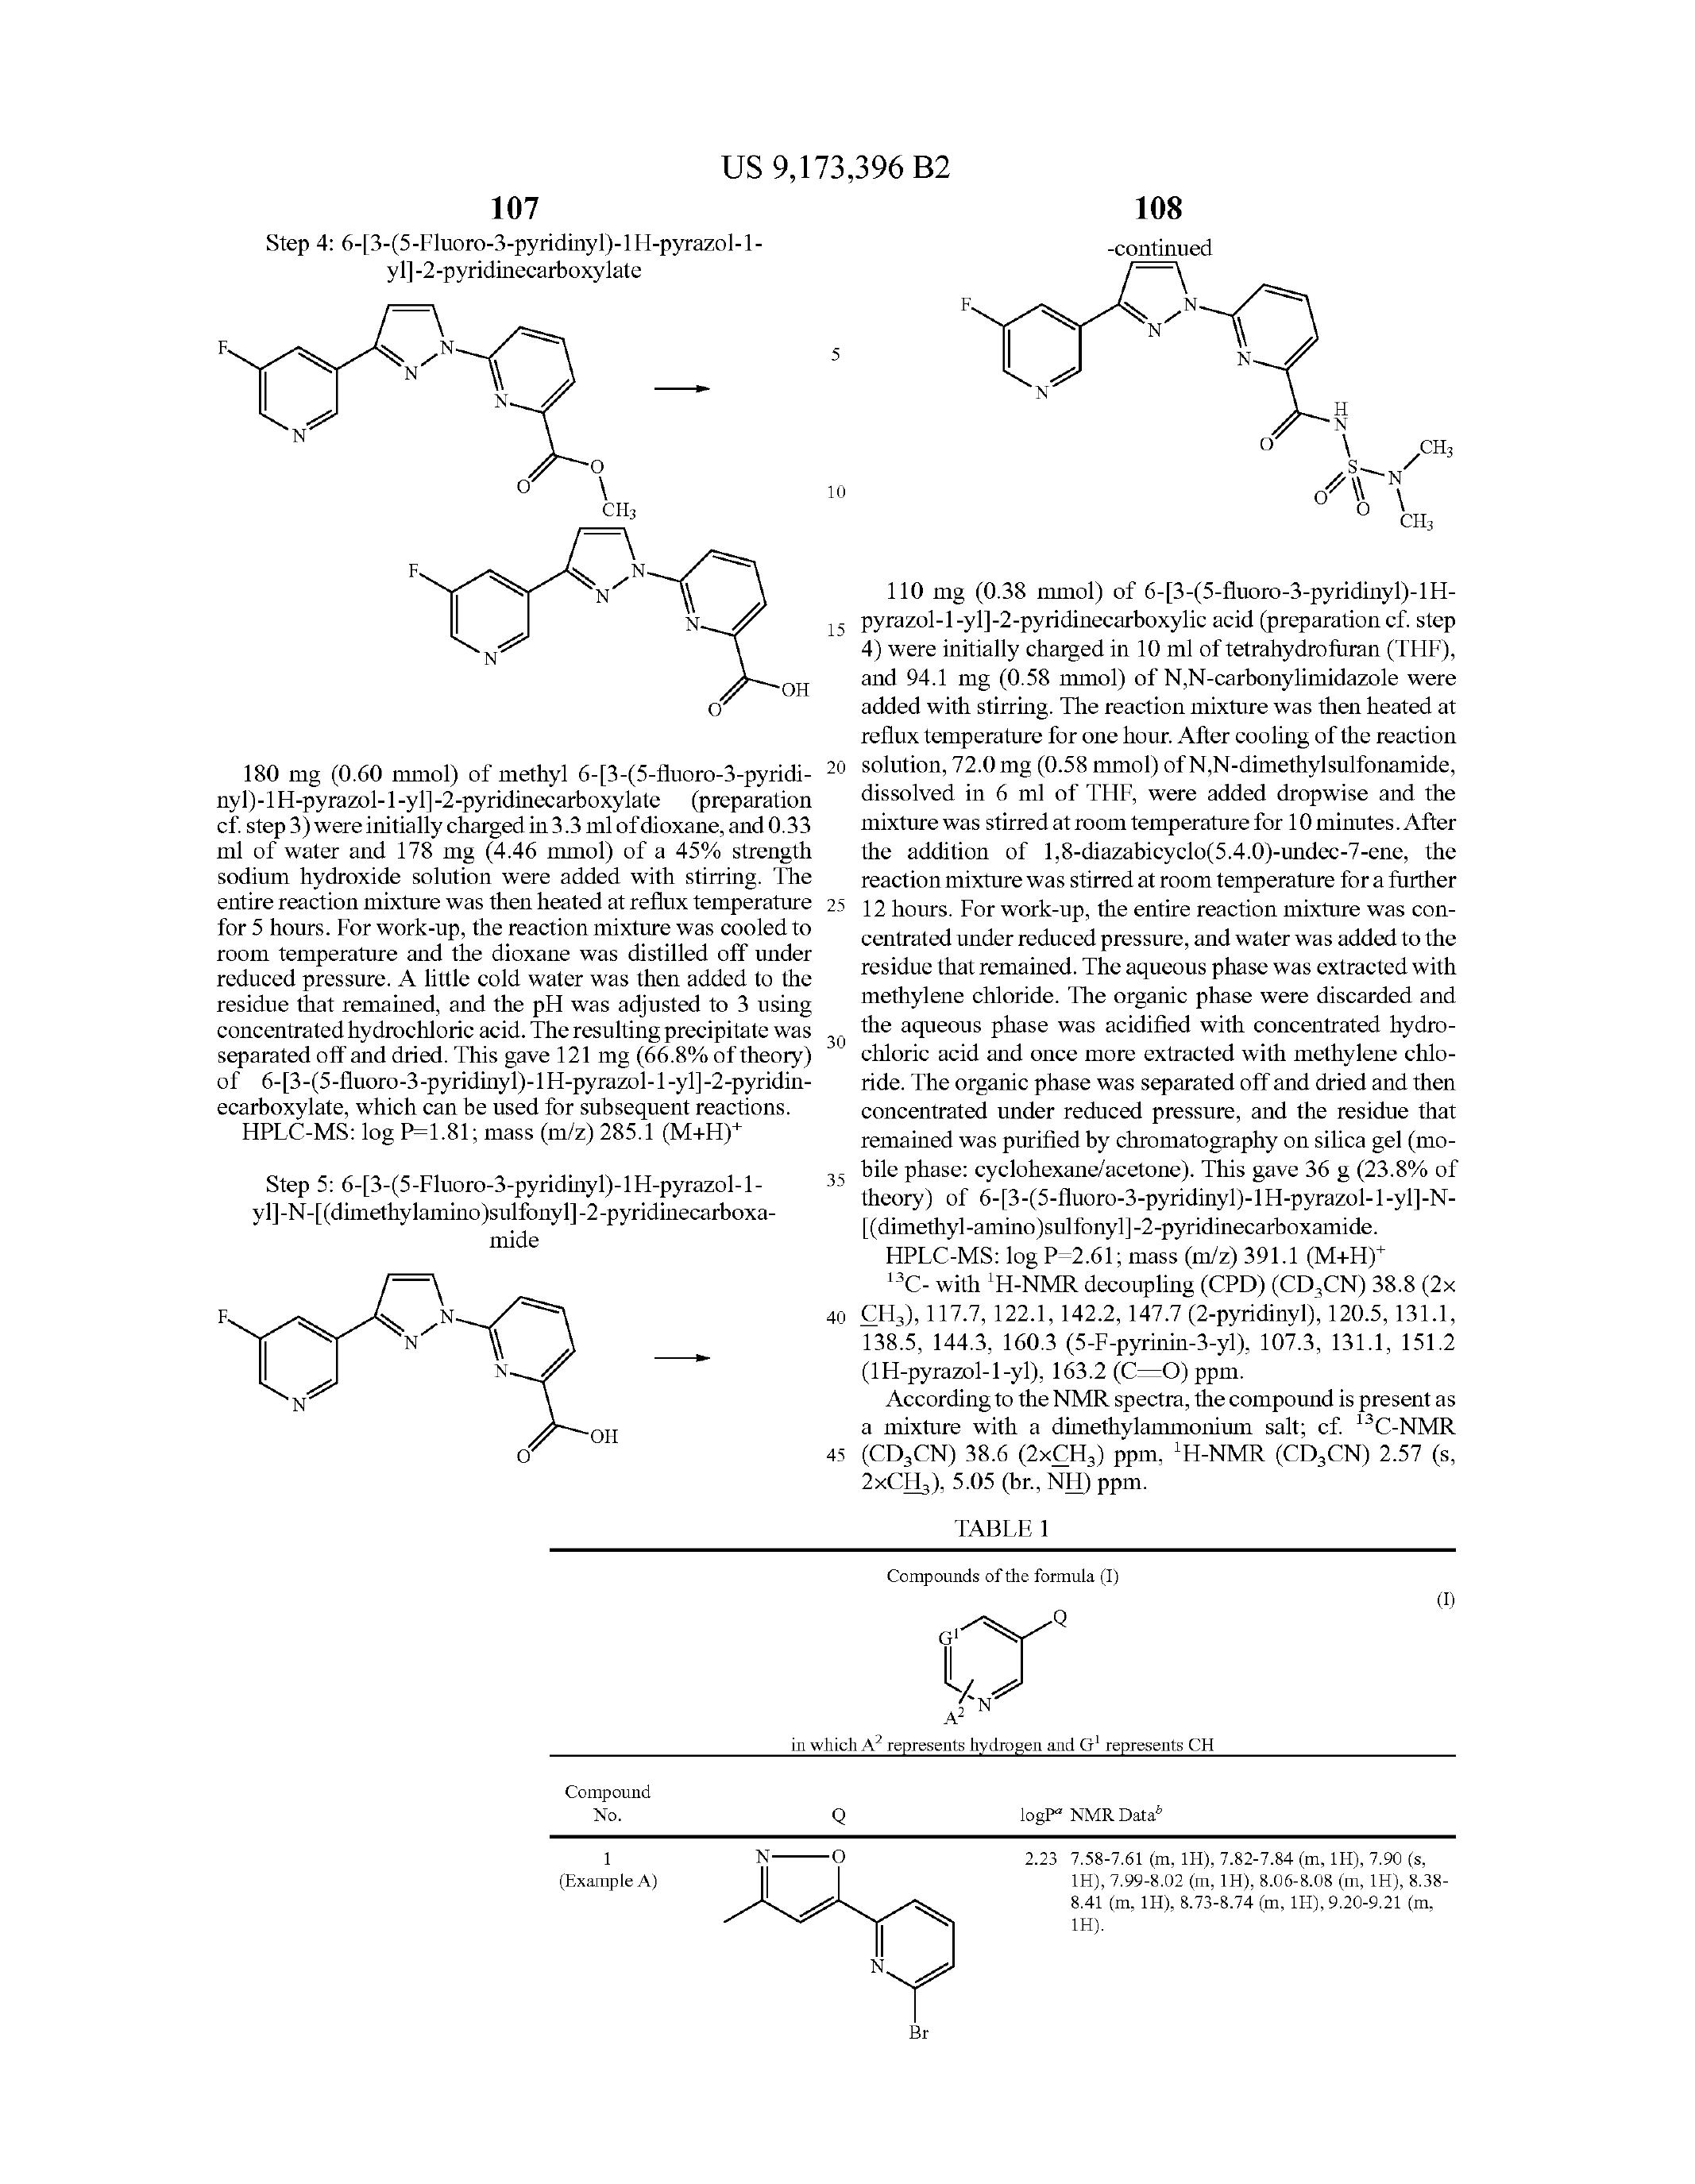reactions: (170, 312, 808, 725)
